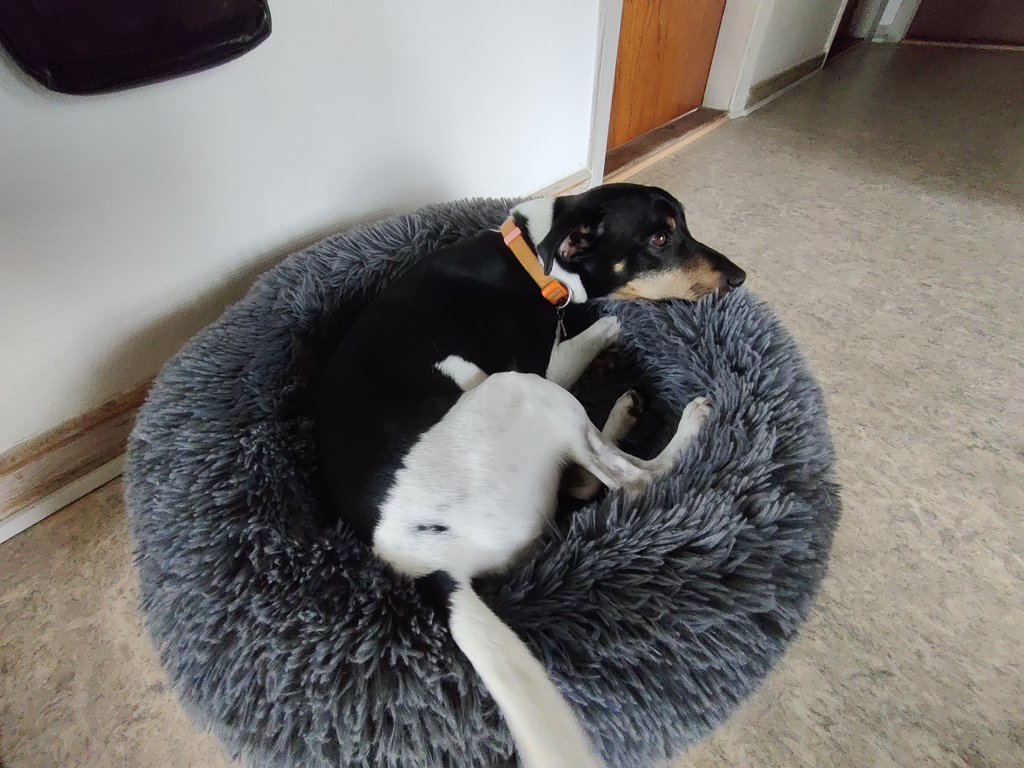Dog: (249, 175, 756, 768)
